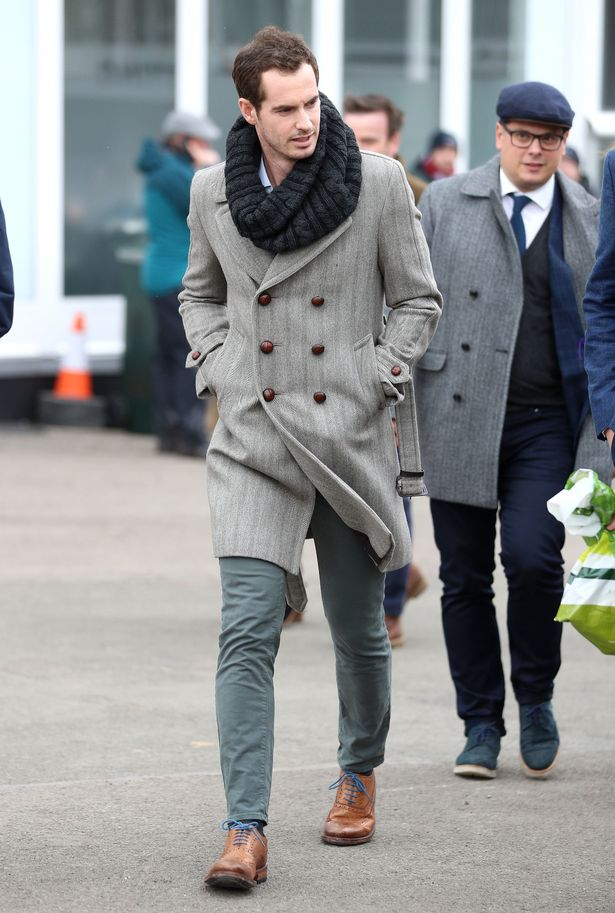Person: (180, 26, 443, 892), (428, 83, 589, 779)
